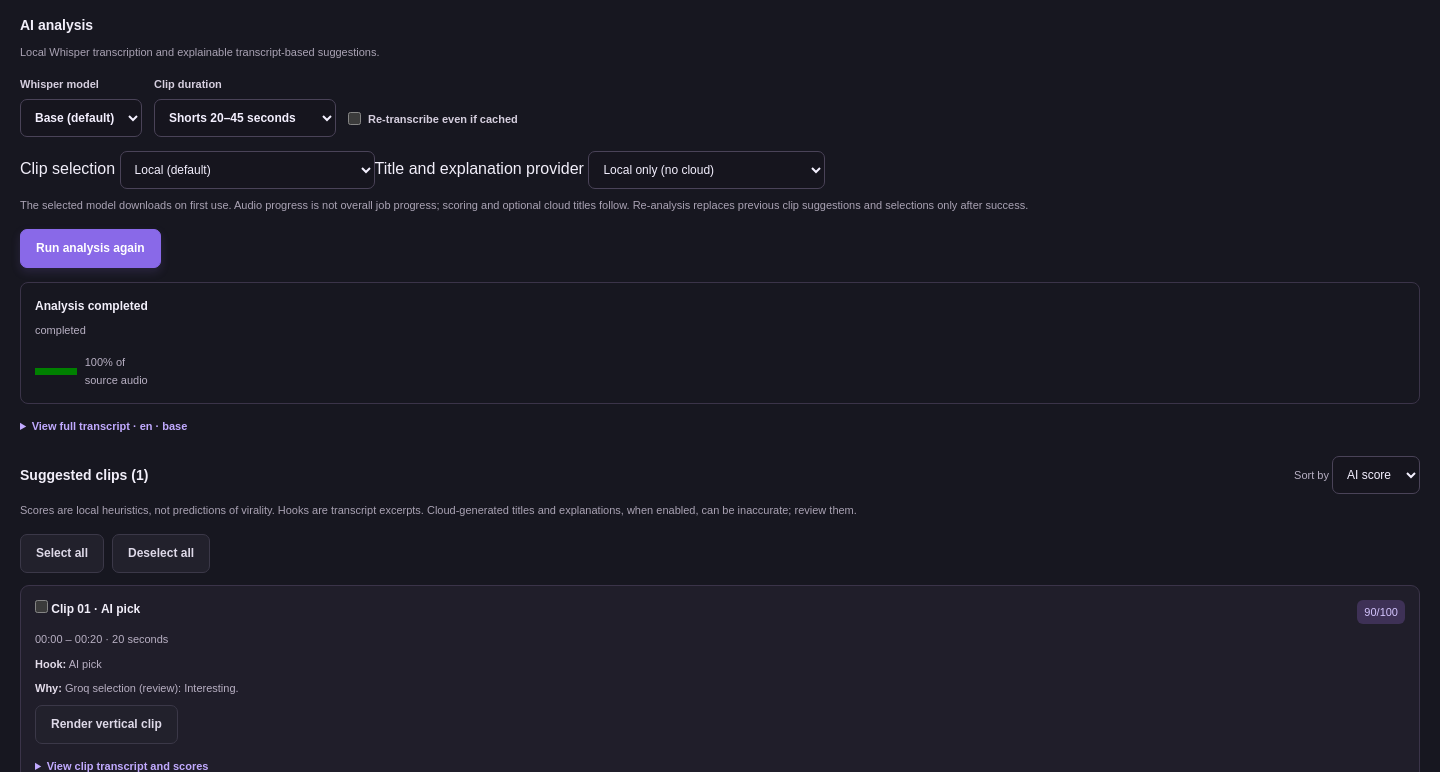
AI-picked clip selection › submits the opt-in mode, explains privacy, and shows AI score breakdown
Later steps or results of the test are not shown.
Check: the heading "Suggested clips (1)" is shown, box [20,465,148,486]
Select "AI-picked (Groq or Gemini key required)" in the dropdown labelled "Clip selection" at [247, 170], box [120,151,375,189]
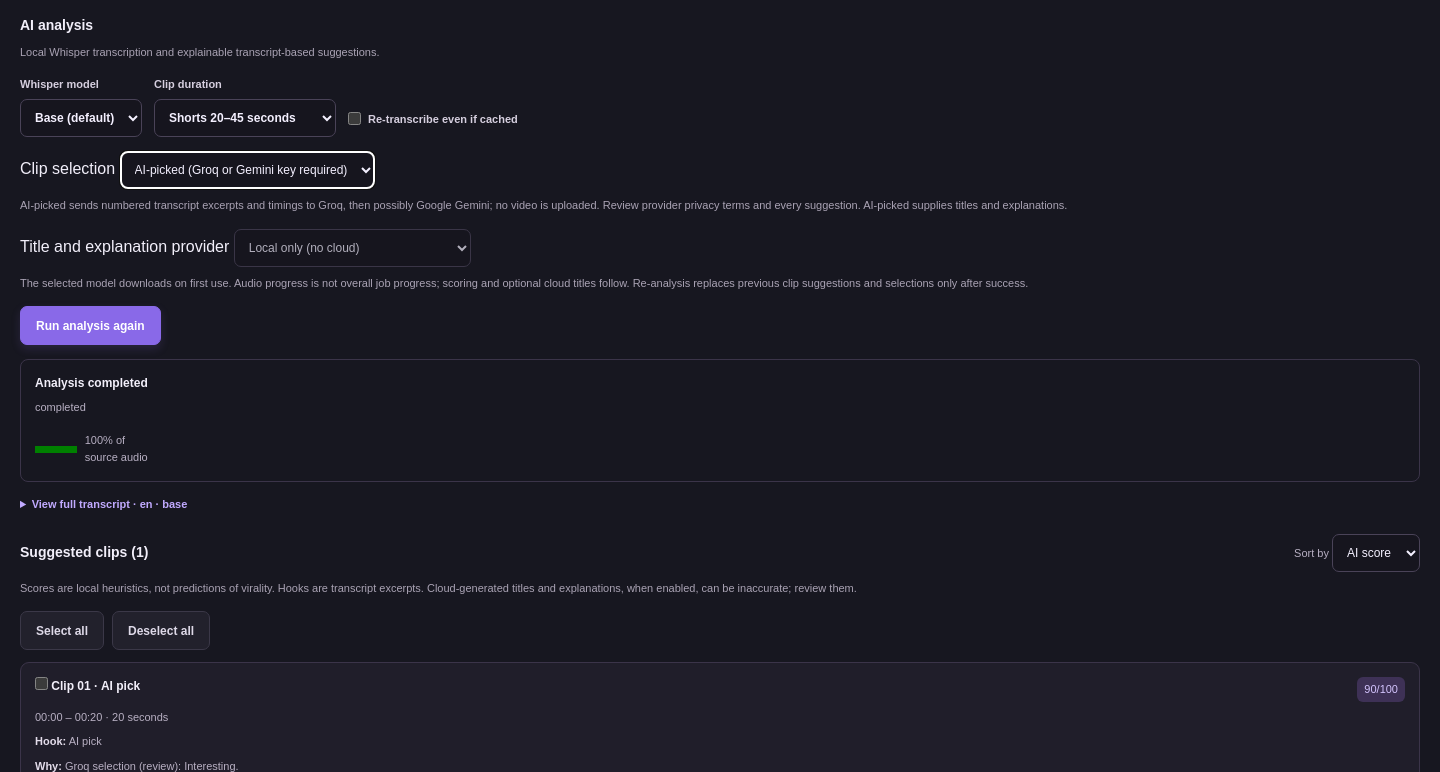
Check: the text "numbered transcript excerpts and timings" is shown, box [20,199,1067,211]
Click the button "Run analysis again".
click(90, 326)  # box [20,306,161,345]
(page scrolled)
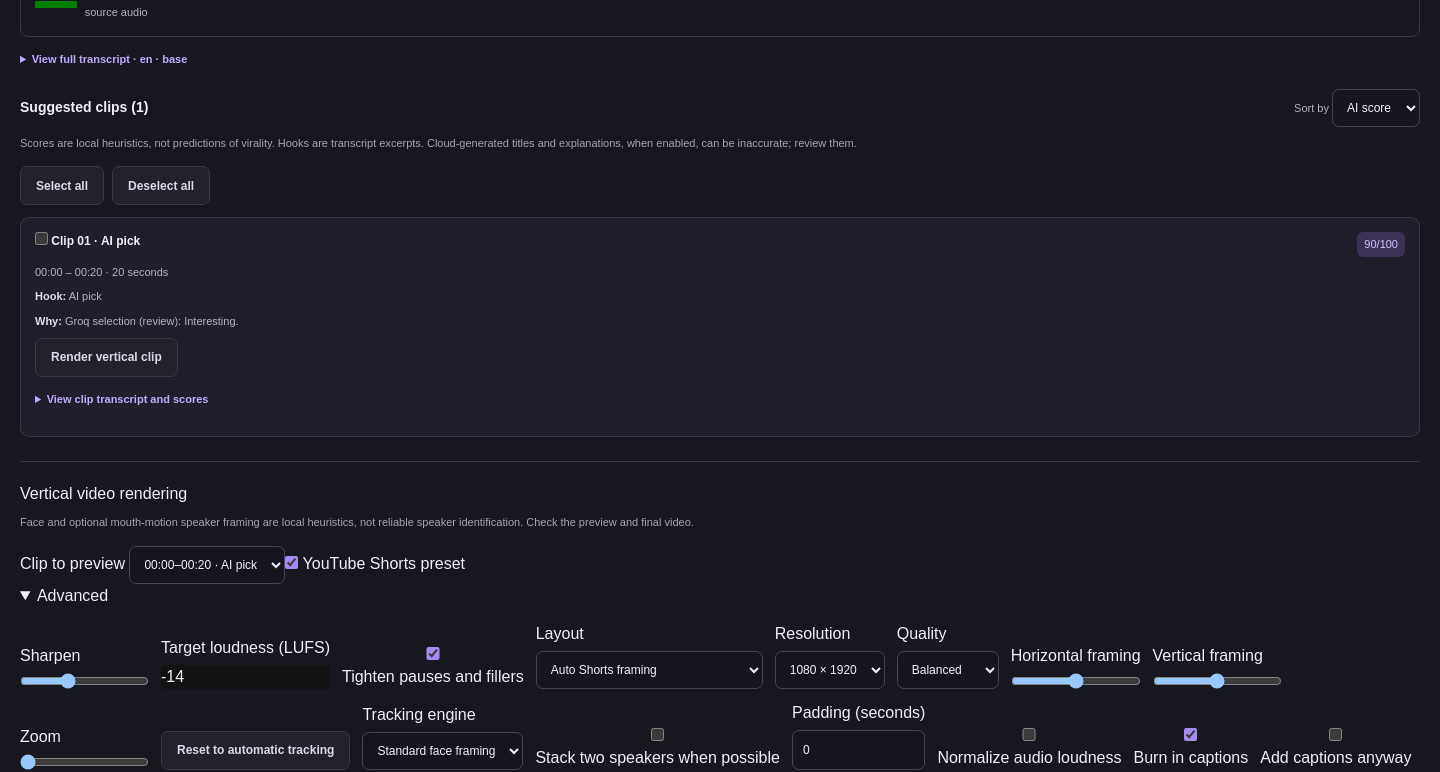
Click the heading "View clip transcript and scores".
click(128, 398)  # box [47,392,208,404]
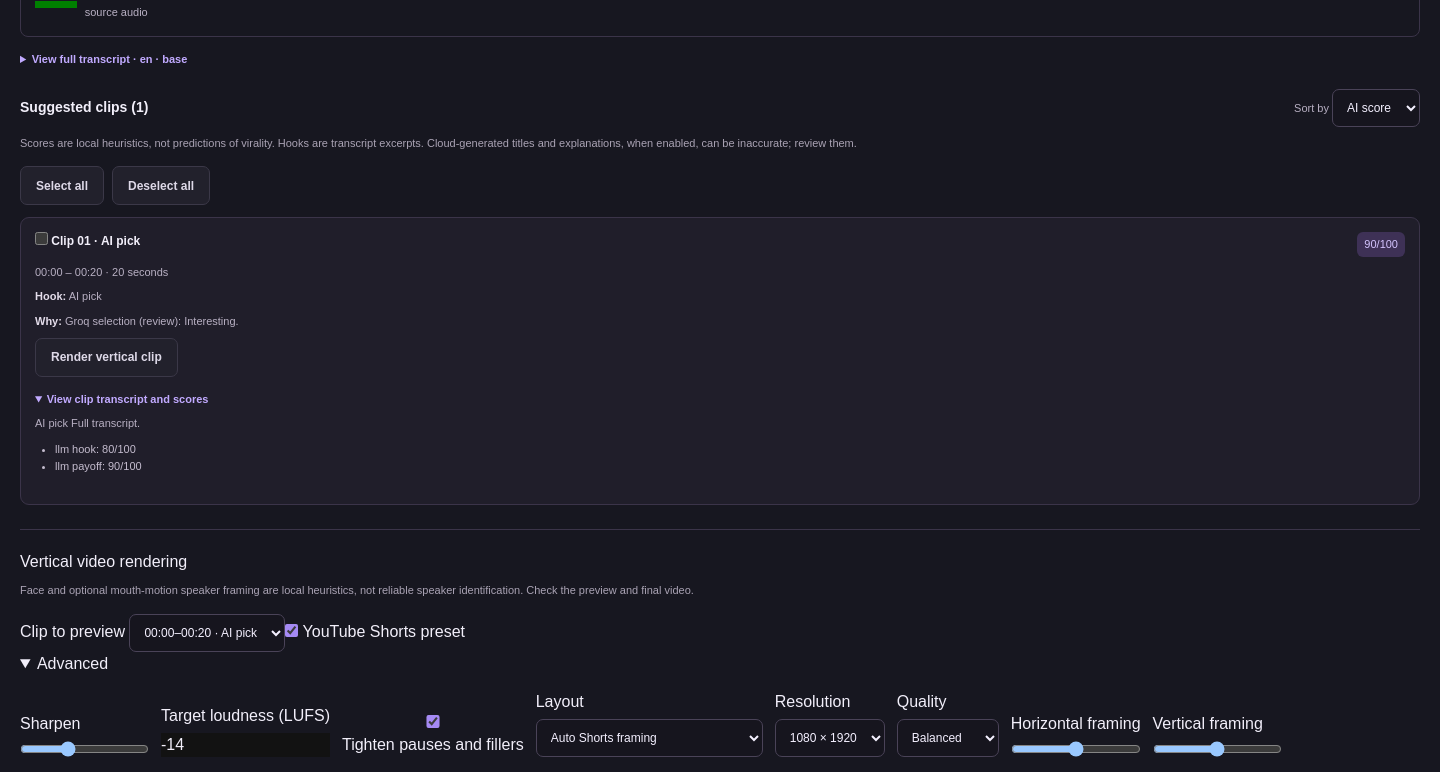
Check: the list item "llm hook: 80/100" is shown, box [55,443,136,455]
